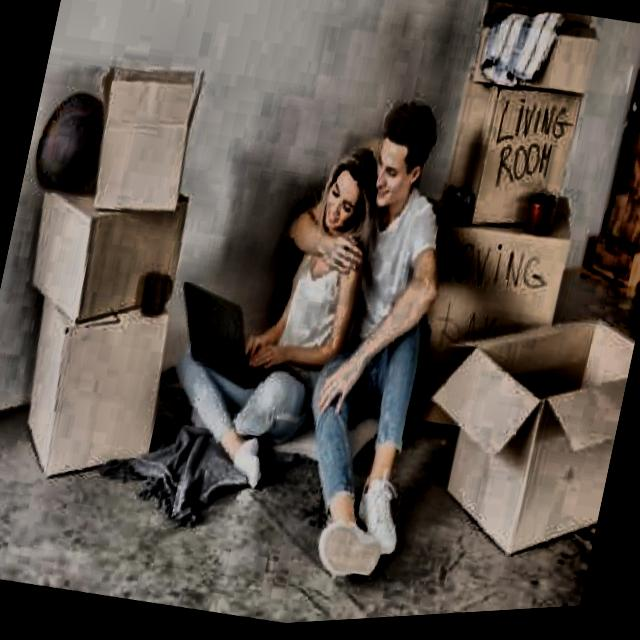Cardbox: (380, 286, 638, 590), (425, 0, 640, 283), (27, 47, 202, 225)
